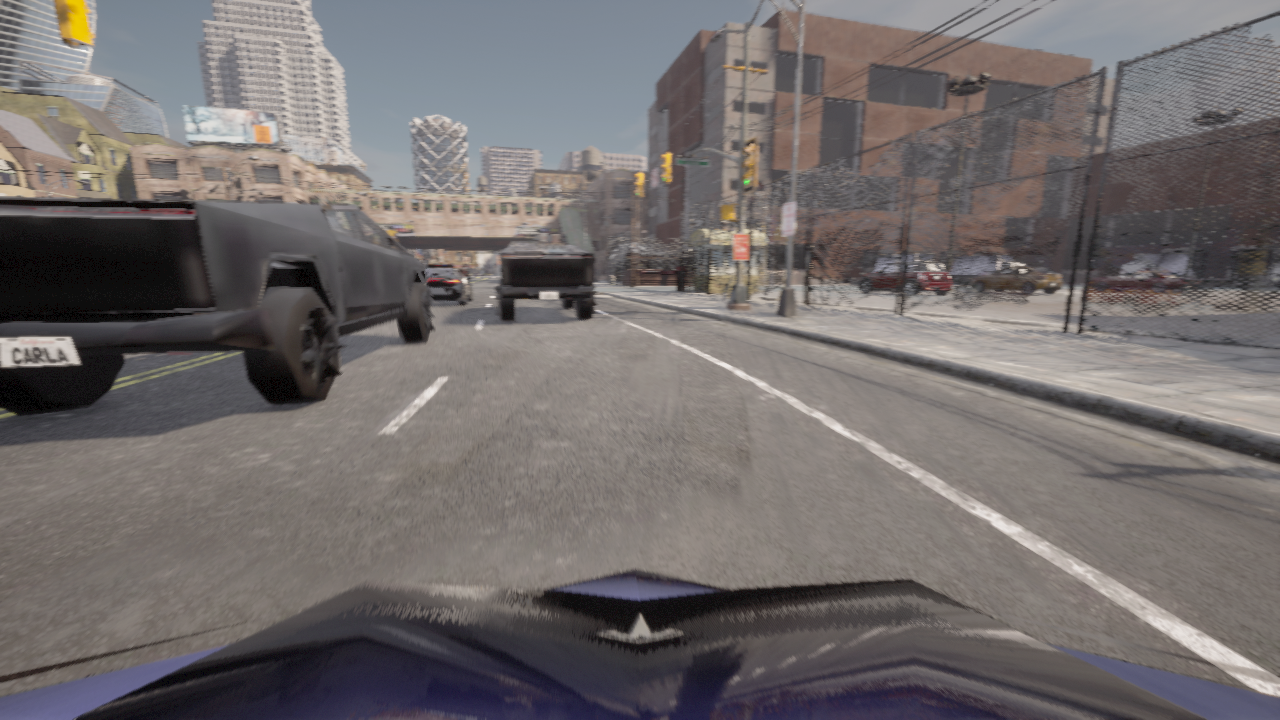cyclist: (0, 569, 1279, 719), (495, 242, 596, 320), (858, 260, 951, 295), (971, 266, 1061, 293), (1089, 271, 1202, 292), (950, 255, 1024, 283), (425, 265, 472, 304), (1121, 254, 1191, 277), (872, 253, 944, 272), (1271, 262, 1279, 287), (474, 273, 476, 276), (479, 273, 481, 276), (477, 273, 478, 276)
